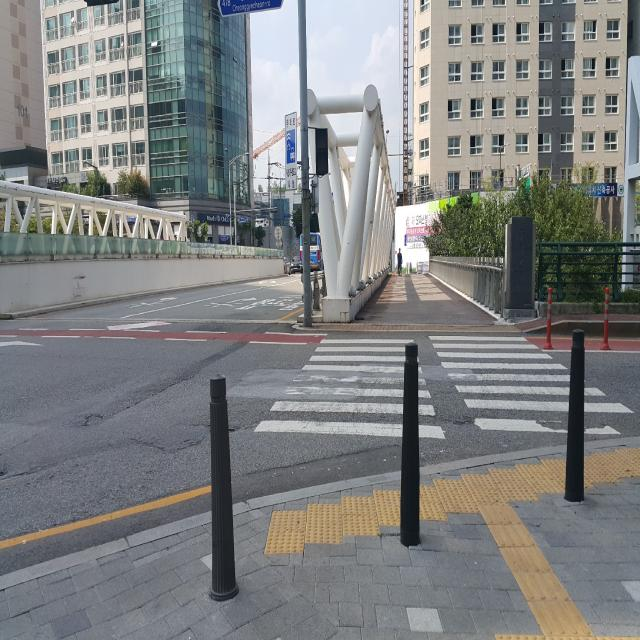횡단보도: (251, 333, 636, 442)
